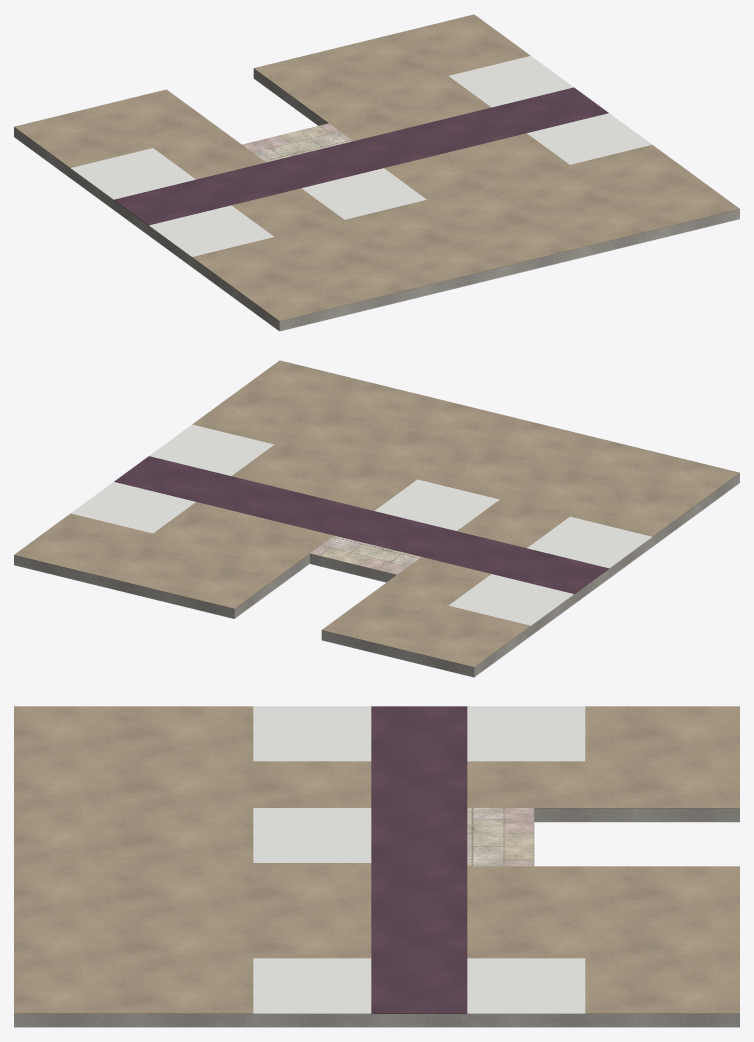
Rendered from slab_typ.glb.
The picture shows the model from 3 angles, top to bottom: view 1: azimuth 30°, elevation 25°; view 2: azimuth 150°, elevation 25°; view 3: azimuth 270°, elevation 25°; orthographic projection. The views are drawn at different scales.
Parts seen in each view (by area): view 1: slab_typ_carpet2, slab_typ_tile, slab_typ_carpet, slab_typ_concrete, slab_typ_stone_f, slab_typ_ceil; view 2: slab_typ_carpet2, slab_typ_tile, slab_typ_carpet, slab_typ_concrete, slab_typ_stone_f, slab_typ_ceil; view 3: slab_typ_carpet2, slab_typ_tile, slab_typ_carpet, slab_typ_concrete, slab_typ_stone_f, slab_typ_ceil.
Boxes of the visible parts, box(x1,y1,x2,y2) form: slab_typ_carpet2: box(14, 14, 739, 321); slab_typ_tile: box(70, 56, 651, 256); slab_typ_carpet: box(114, 87, 608, 225); slab_typ_concrete: box(14, 69, 739, 330); slab_typ_stone_f: box(242, 123, 352, 162); slab_typ_ceil: box(14, 78, 739, 331); slab_typ_carpet2: box(14, 360, 739, 667); slab_typ_tile: box(71, 424, 651, 625); slab_typ_carpet: box(114, 456, 609, 594); slab_typ_concrete: box(14, 473, 739, 676); slab_typ_stone_f: box(310, 535, 420, 574); slab_typ_ceil: box(14, 483, 739, 677); slab_typ_carpet2: box(14, 706, 739, 1013); slab_typ_tile: box(253, 706, 585, 1013); slab_typ_carpet: box(371, 706, 467, 1013); slab_typ_concrete: box(14, 808, 739, 1026); slab_typ_stone_f: box(467, 808, 534, 866); slab_typ_ceil: box(14, 822, 739, 1027).
Bounding box in the file's own units: 11.5 × 0.25 × 11.5.
6 materials, 4 textured.
